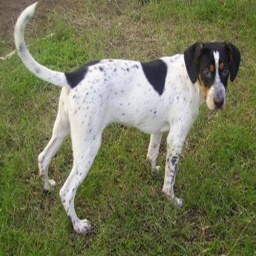dog: (14, 5, 242, 241)
